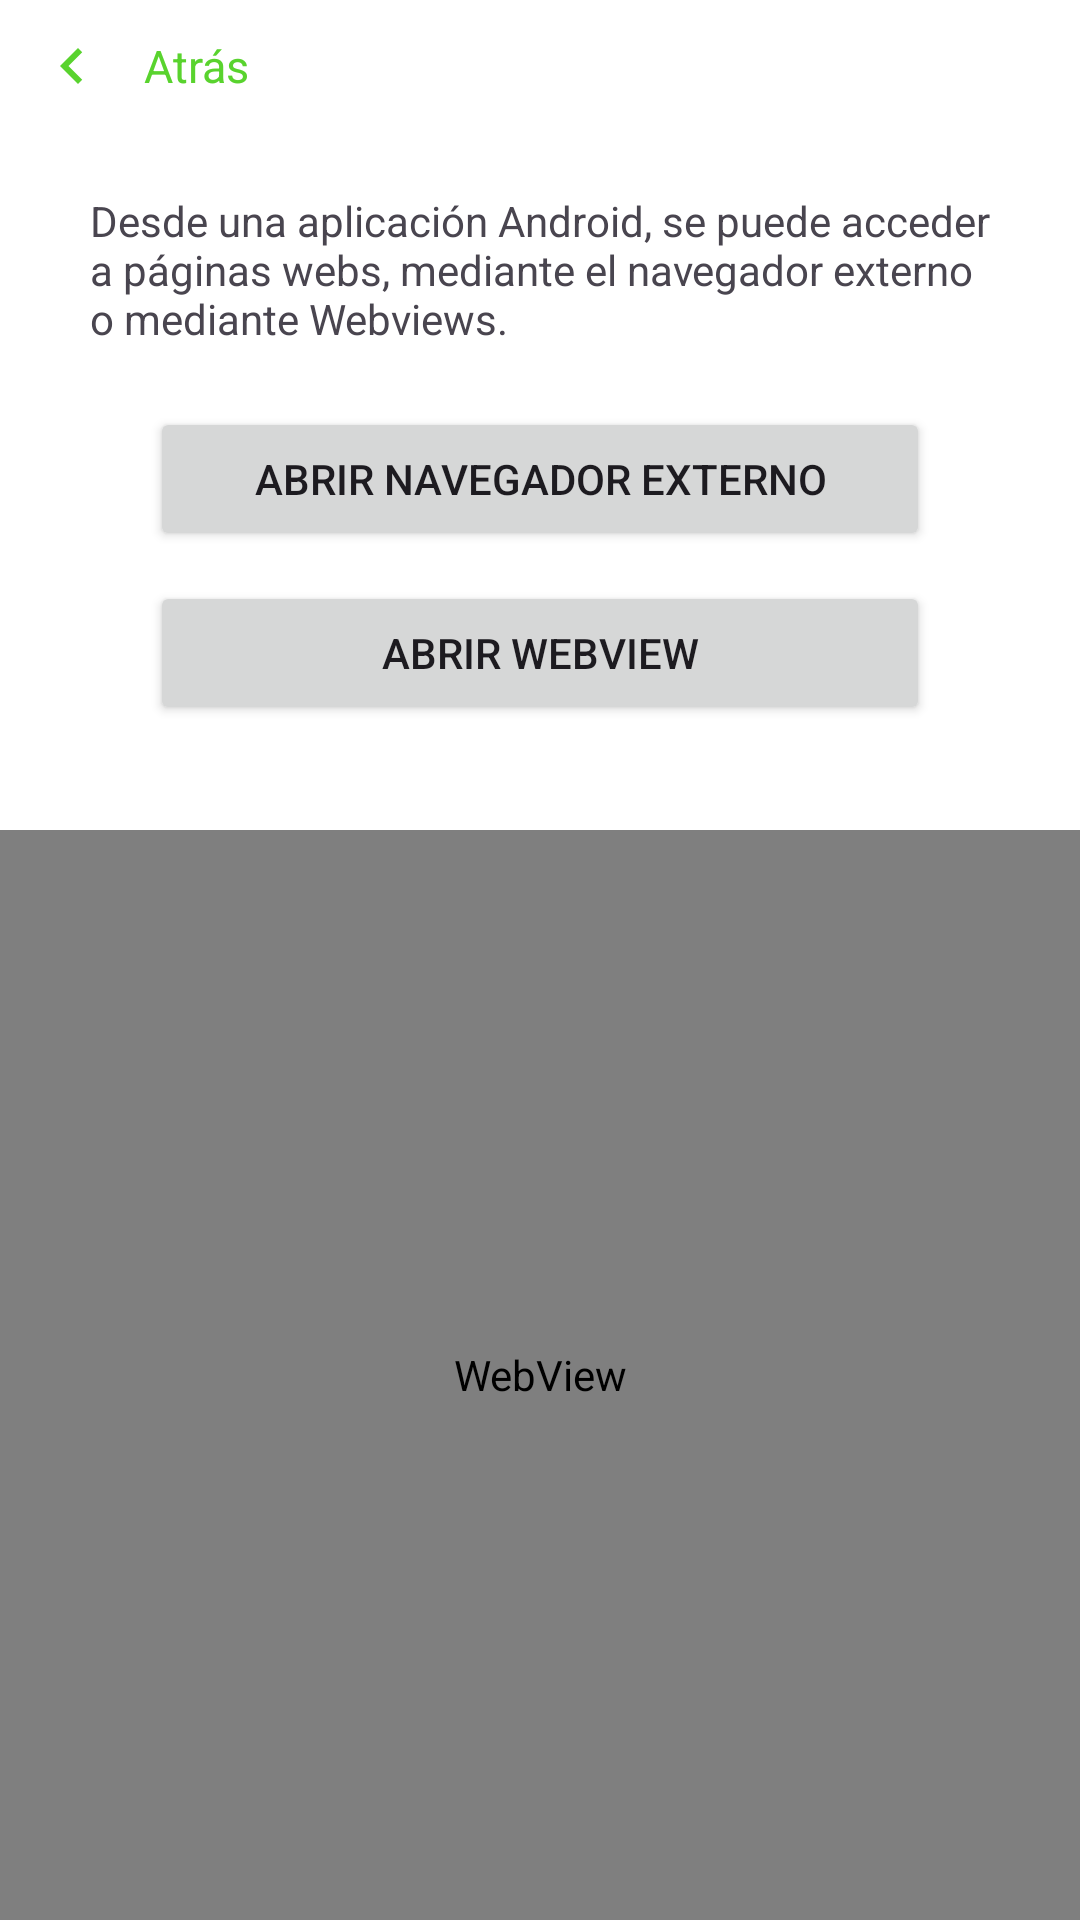

Locate icon controls on the screen. Image size 1080w x 1920h, boxes as (x1, y1, x2, y2).
before: (60, 48, 82, 84)
